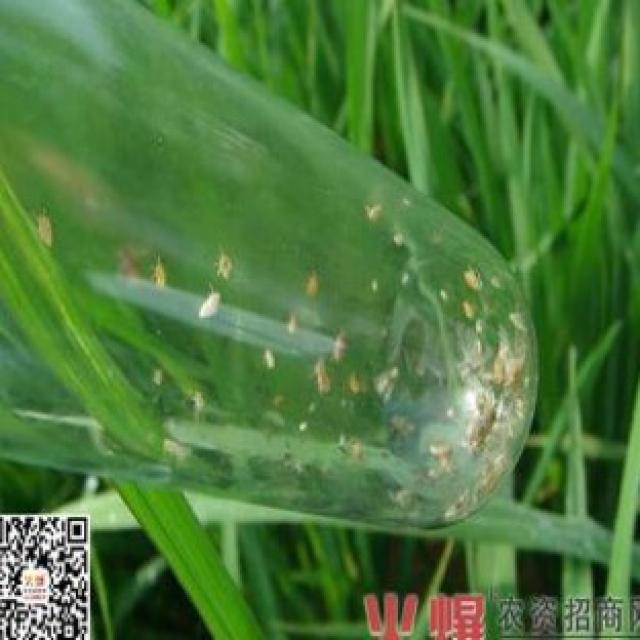brown plant hopper: (33, 211, 51, 248), (199, 291, 215, 318), (152, 256, 164, 285)
